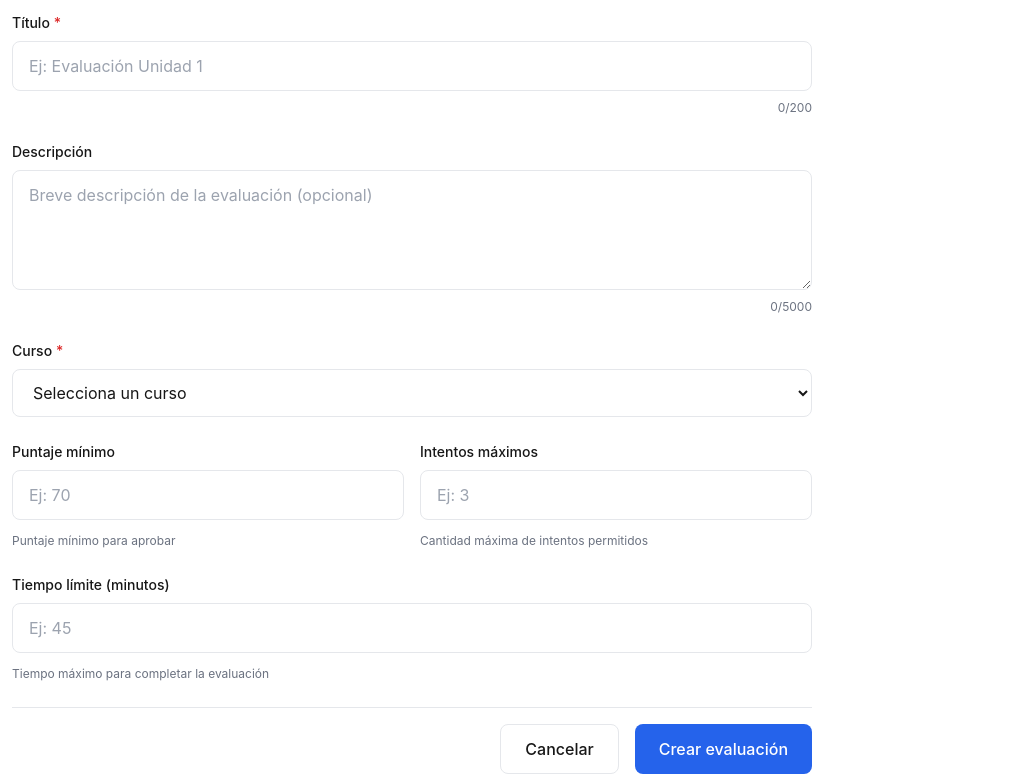
EvaluacionForm › debería mostrar error si no se selecciona un curso
Type "Evaluación 1" into the field labelled "Título*". click: x=412, y=66
box: [12,41,812,91]
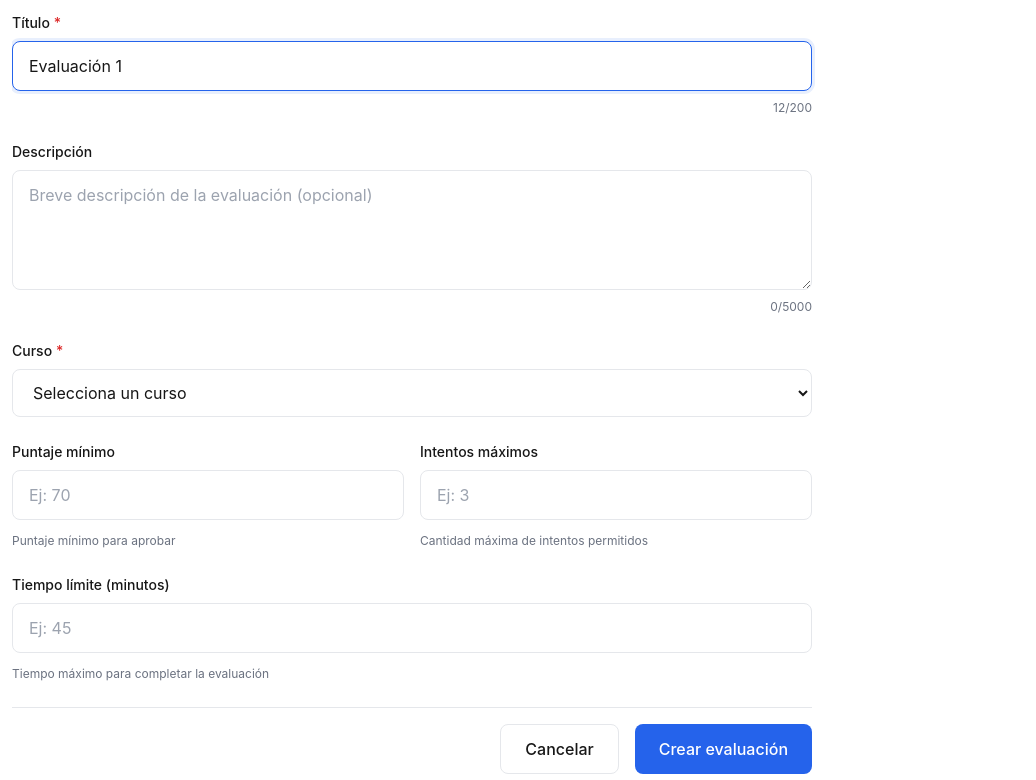
Submit the form named "crear evaluación"
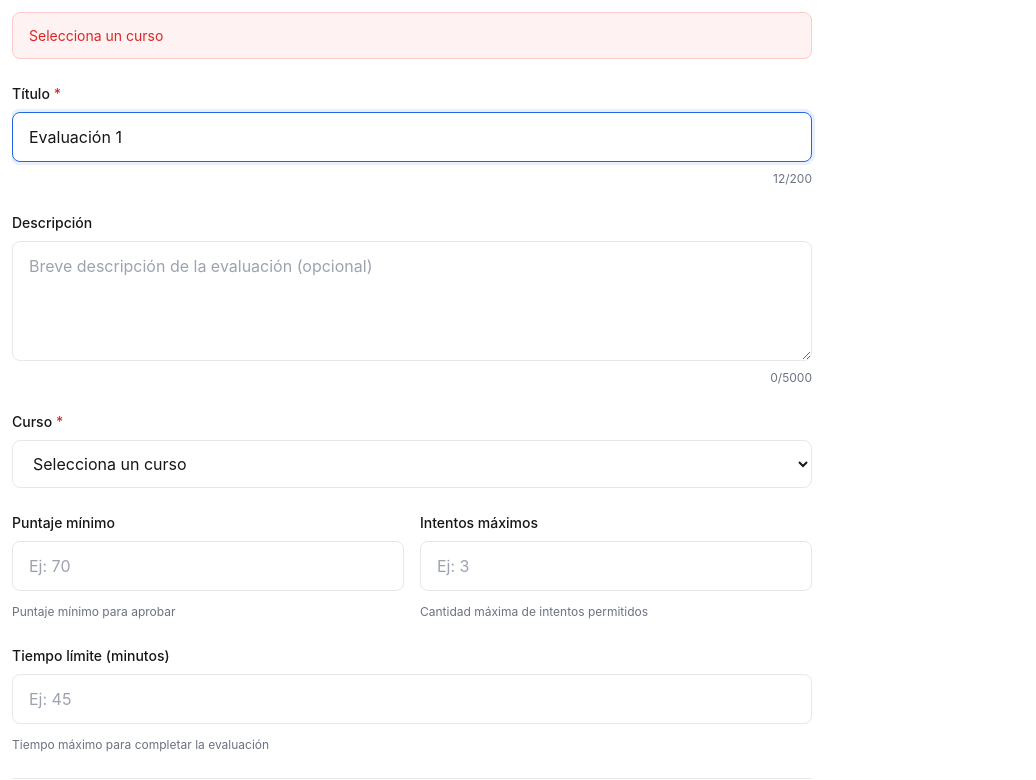
Result: the text "Selecciona un curso" is shown at [12,12,812,59]
